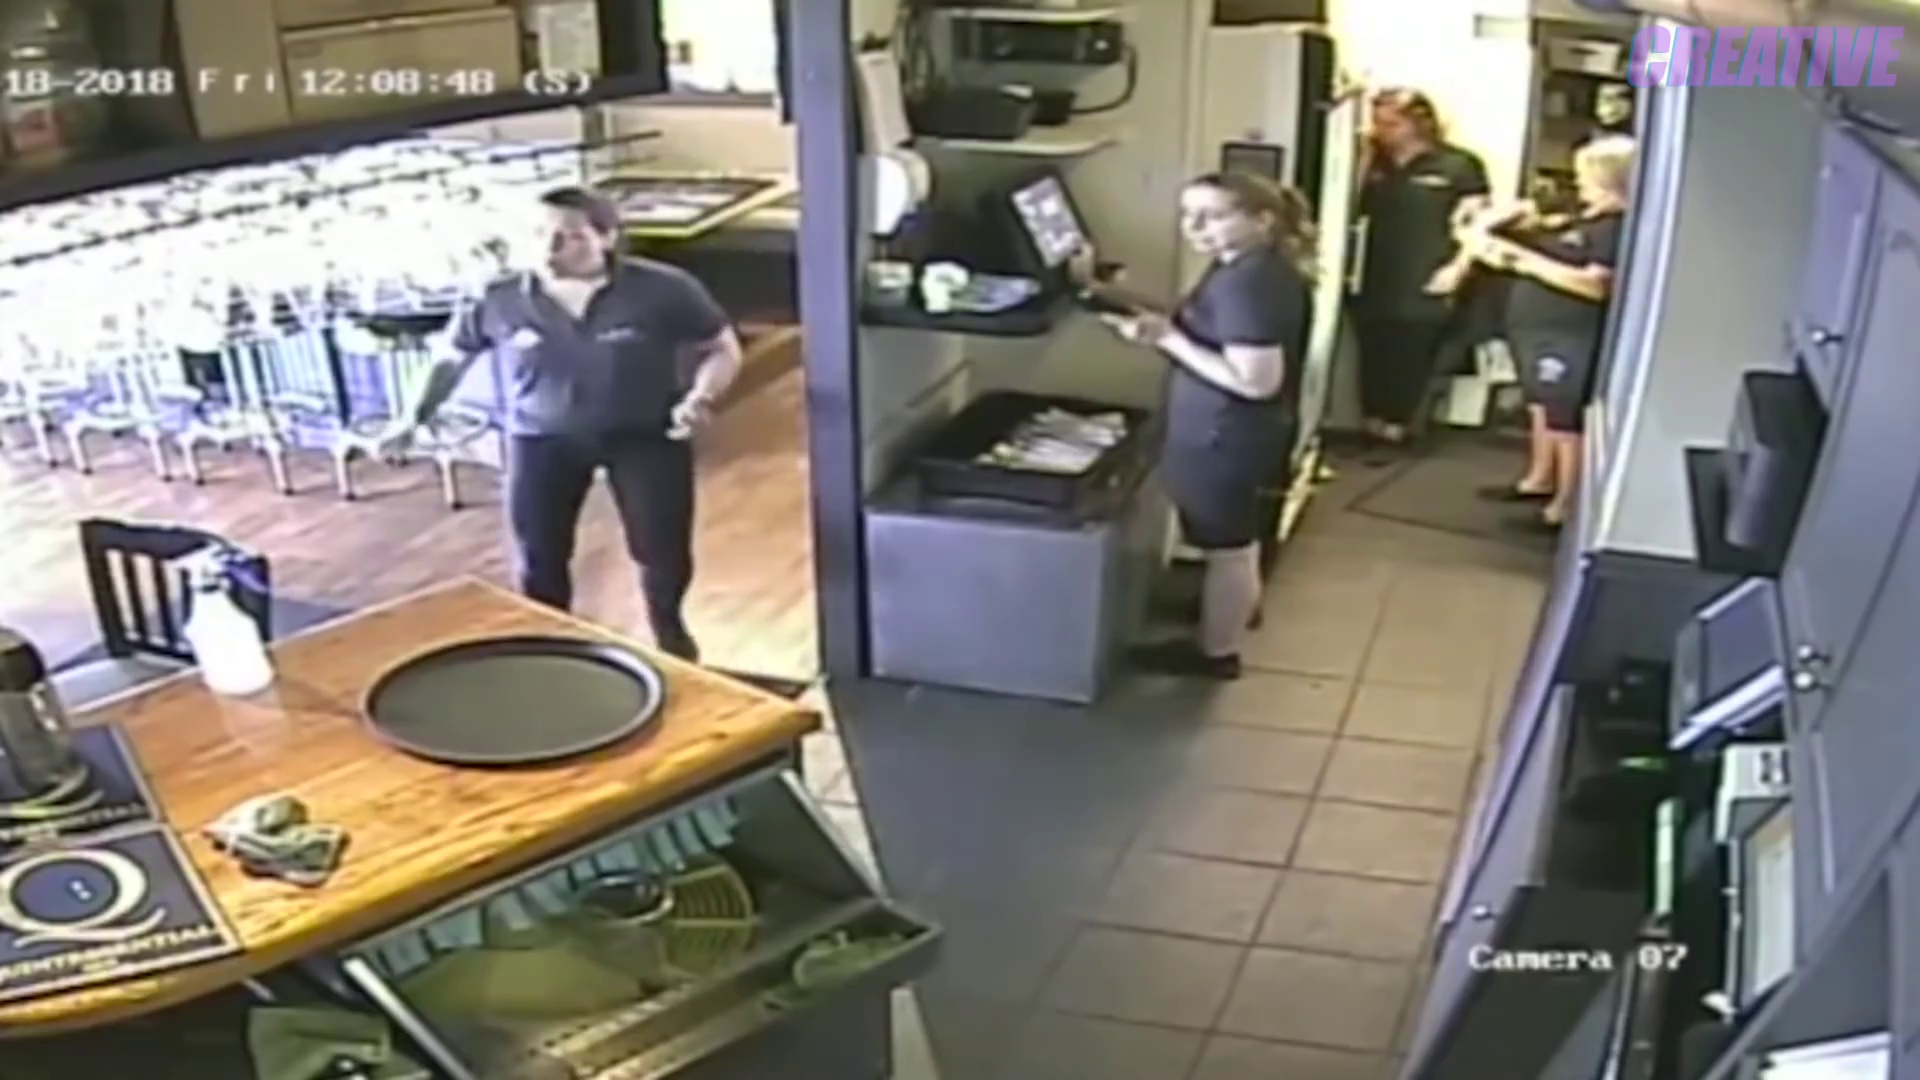face: (1172, 186, 1237, 256), (532, 208, 588, 278), (1371, 102, 1416, 146)
